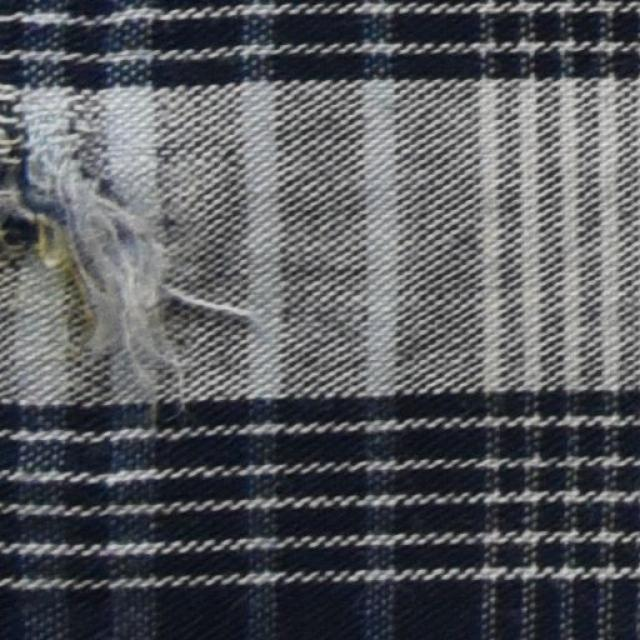Snag: (42, 126, 242, 399), (0, 116, 84, 329)
Stain: (12, 212, 85, 316)
